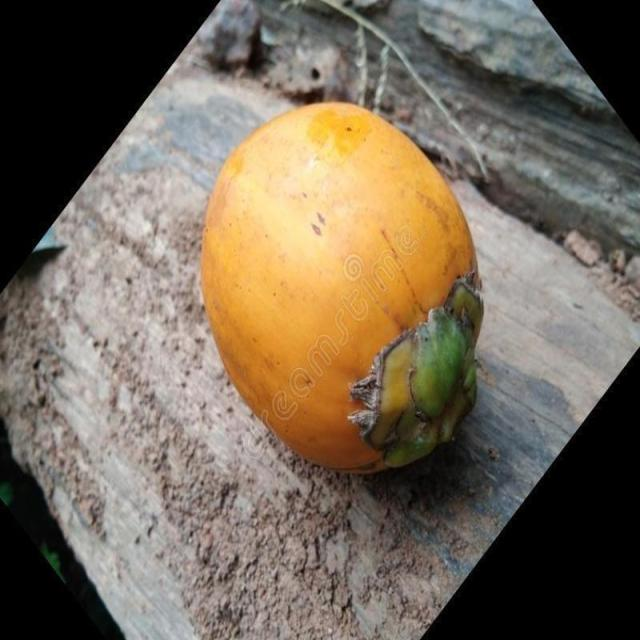good: (201, 102, 485, 477)
